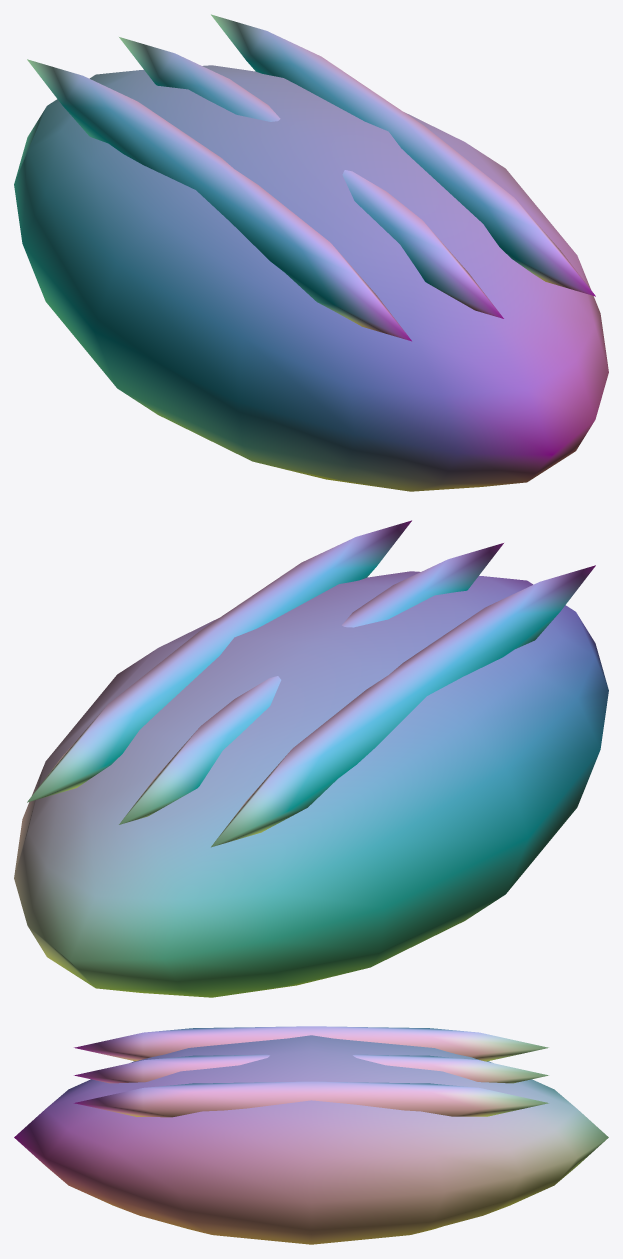
The model's file is prop_seed.glb.
3 renders of one model, top to bottom at view 1: azimuth 30°, elevation 25°; view 2: azimuth 150°, elevation 25°; view 3: azimuth 270°, elevation 25°, orthographic. The views are drawn at different scales.
Parts seen in each view (by area): view 1: seed_mesh; view 2: seed_mesh; view 3: seed_mesh.
Part boxes in pixels (<box>): seed_mesh: <box>14,14,608,491</box>; seed_mesh: <box>14,520,608,997</box>; seed_mesh: <box>14,1026,608,1244</box>.
Bounding box in the file's own units: 0.052 × 0.032 × 0.1.
